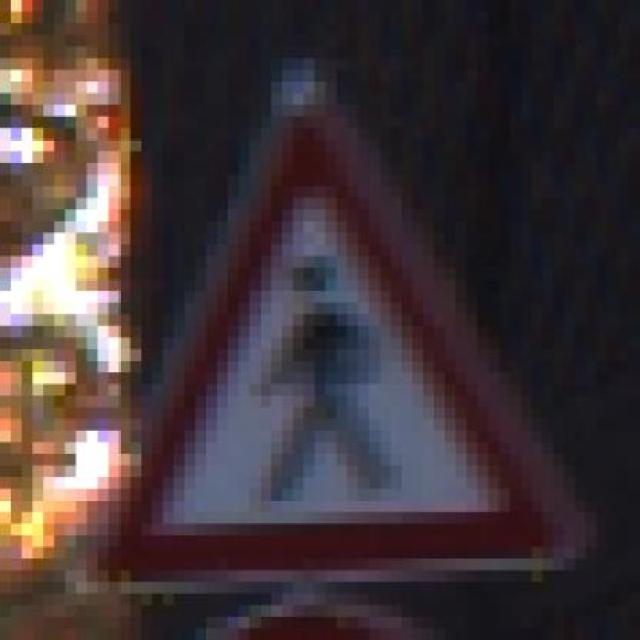Pedestrian Crossing: (97, 93, 608, 605)
